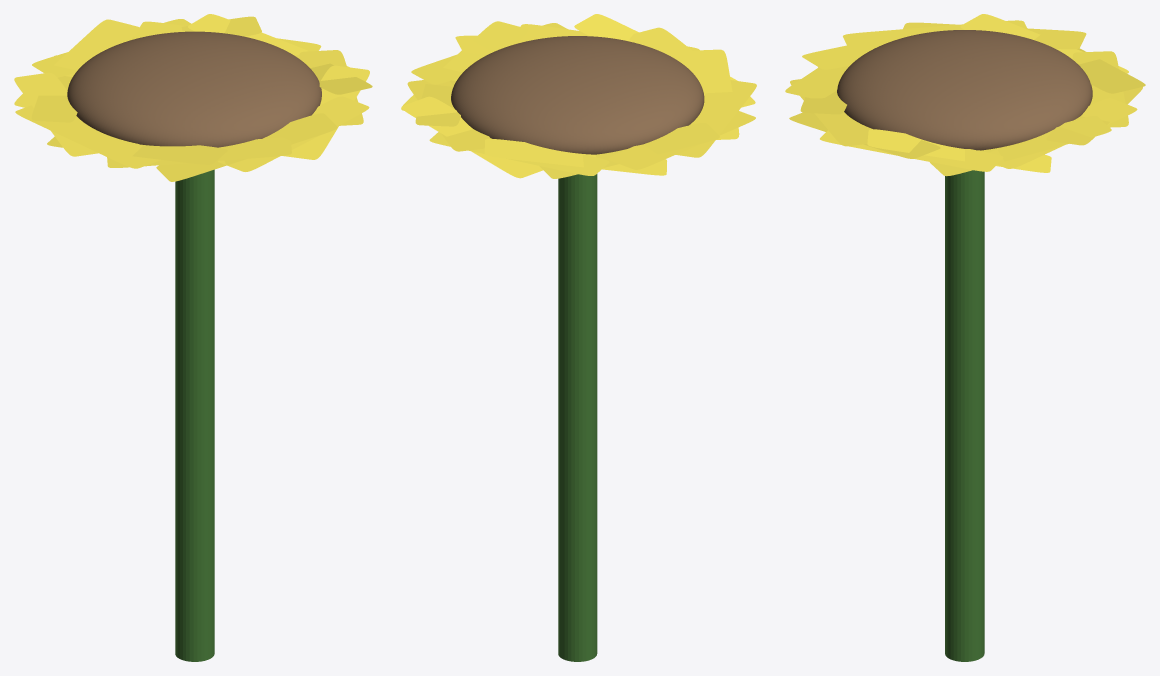
The picture shows the model from 3 angles, left to right: view 1: azimuth 30°, elevation 25°; view 2: azimuth 150°, elevation 25°; view 3: azimuth 270°, elevation 25°; orthographic projection.
Parts seen in each view (by area): view 1: Sphere, Cylinder, Plane.008, Plane.011, Plane.005, Plane.013, Plane.007, Plane.010, Plane.009, Plane.012, Plane.006, Plane.001 (+5 smaller); view 2: Sphere, Cylinder, Plane.005, Plane.008, Plane.009, Plane.003, Plane.006, Plane, Plane.007, Plane.010, Plane.002, Plane.011 (+4 smaller); view 3: Sphere, Cylinder, Plane.001, Plane, Plane.002, Plane.005, Plane.014, Plane.010, Plane.012, Plane.009, Plane.008, Plane.007 (+5 smaller).
Part boxes in pixels (box(x1,y1,x2,y2)): Sphere: box(67, 31, 321, 147); Cylinder: box(175, 169, 214, 661); Plane.008: box(15, 105, 160, 168); Plane.011: box(156, 113, 337, 181); Plane.005: box(14, 19, 139, 107); Plane.013: box(283, 65, 369, 159); Plane.007: box(14, 72, 98, 156); Plane.010: box(107, 137, 291, 167); Plane.009: box(47, 136, 227, 164); Plane.012: box(218, 96, 369, 171); Plane.006: box(31, 55, 77, 122); Plane.001: box(188, 14, 349, 67); Sphere: box(451, 36, 704, 154); Cylinder: box(558, 174, 597, 661); Plane.005: box(484, 138, 666, 175); Plane.008: box(676, 80, 756, 157); Plane.009: box(683, 49, 739, 139); Plane.003: box(401, 96, 542, 178); Plane.006: box(539, 123, 719, 178); Plane: box(401, 21, 528, 110); Plane.007: box(608, 111, 755, 169); Plane.010: box(629, 27, 755, 107); Plane.002: box(407, 80, 490, 151); Plane.011: box(574, 14, 737, 80); Sphere: box(837, 30, 1092, 150); Cylinder: box(945, 170, 984, 661); Plane.001: box(930, 116, 1111, 176); Plane: box(867, 129, 1051, 172); Plane.002: box(989, 98, 1137, 168); Plane.005: box(1077, 48, 1145, 93); Plane.014: box(820, 130, 1003, 171); Plane.010: box(785, 65, 849, 98); Plane.012: box(790, 79, 872, 146); Plane.009: box(802, 40, 880, 69); Plane.008: box(843, 20, 1026, 45); Plane.007: box(903, 22, 1086, 49).
Bounding box in the file's own units: 0.7278 × 1.33 × 0.7303.
